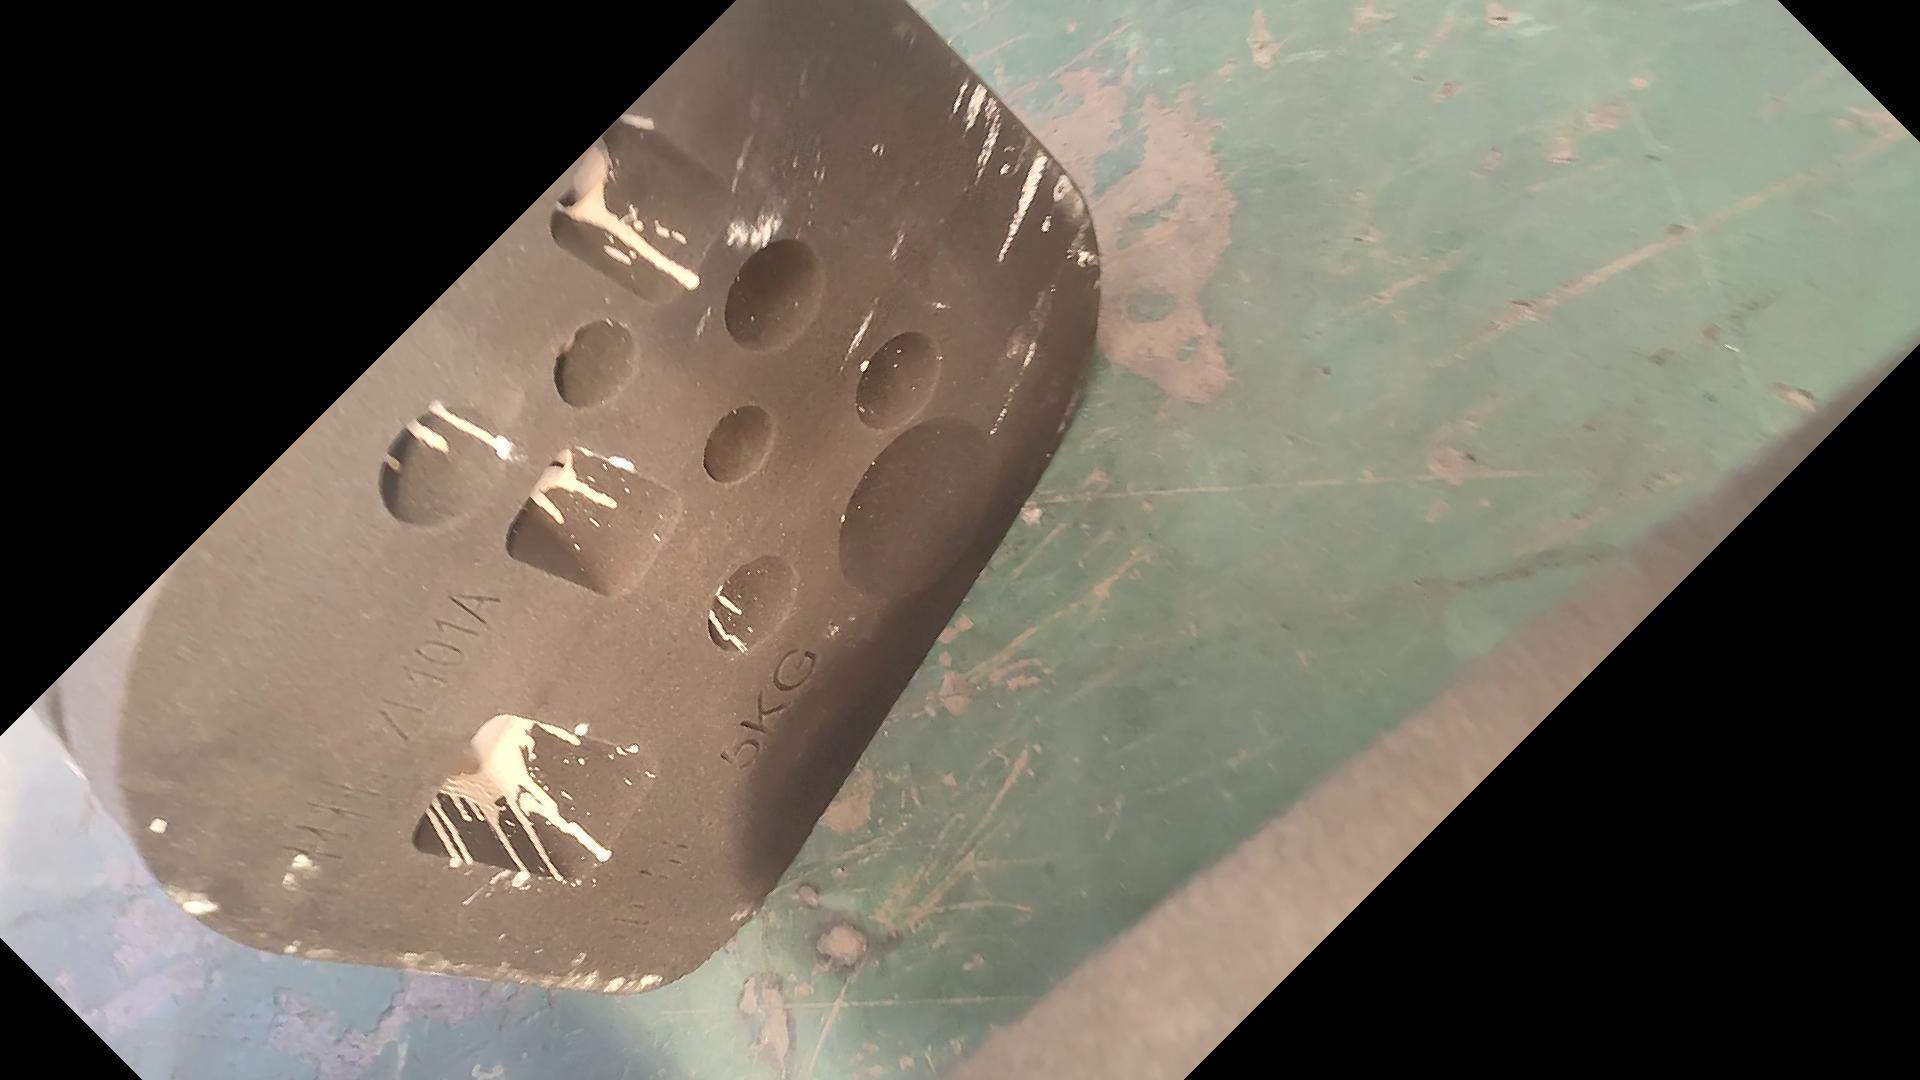pouring hole: (837, 415, 992, 596)
